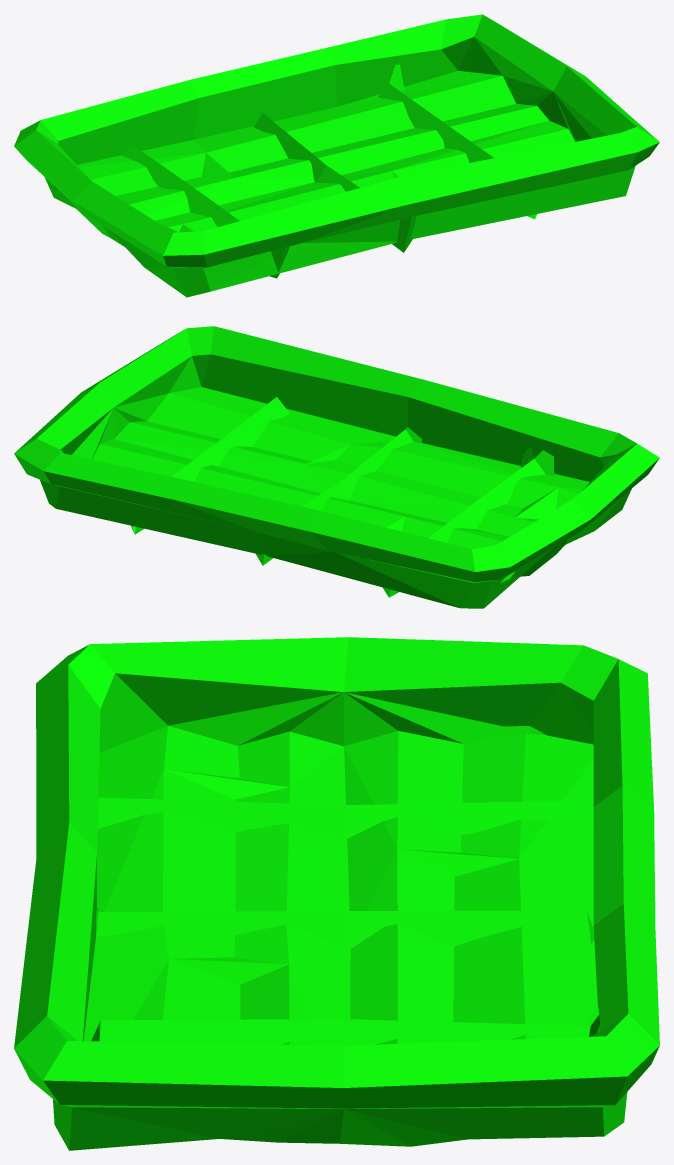
File: SM_Tray_Basket_Fantasy.fbx
3 views of the same model, one above another, from view 1: azimuth 30°, elevation 25°; view 2: azimuth 150°, elevation 25°; view 3: azimuth 270°, elevation 25° (orthographic). The views are drawn at different scales.
Visible parts, largest first — view 1: tray-basket-fantasy; view 2: tray-basket-fantasy; view 3: tray-basket-fantasy.
Boxes of the visible parts, <box> form: tray-basket-fantasy: <box>14,14,659,297</box>; tray-basket-fantasy: <box>14,326,659,608</box>; tray-basket-fantasy: <box>14,637,659,1150</box>.
Size of the model in its own units: 0.536 by 0.0792 by 0.331.
